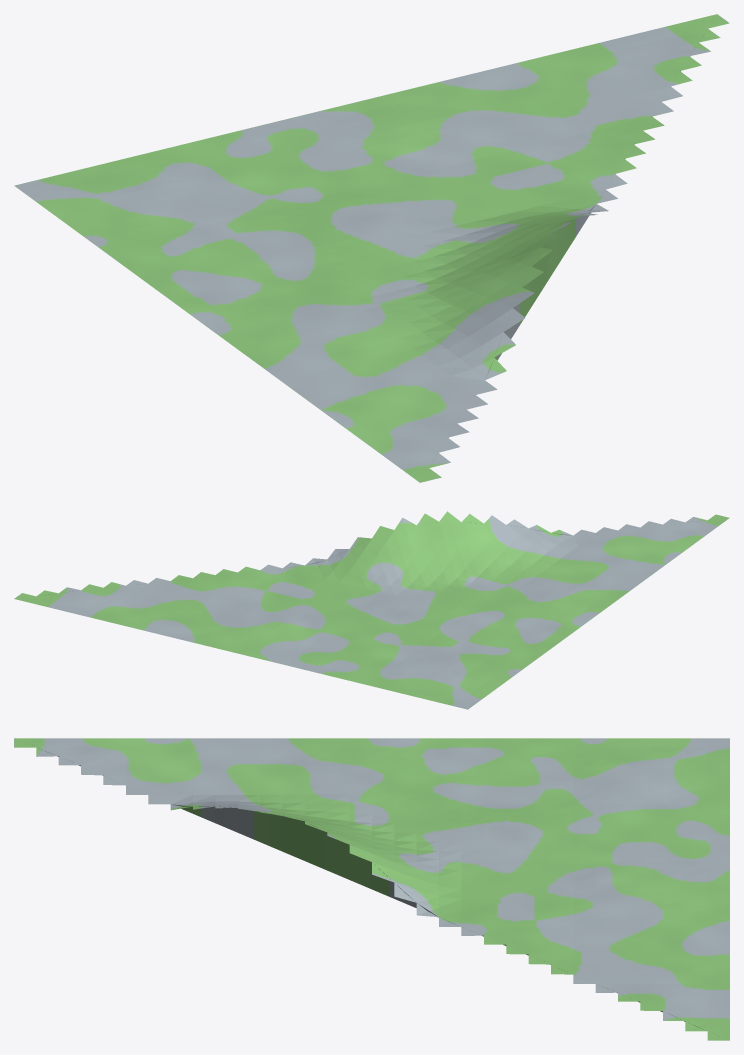
The model's file is Grass_RockyGround_08_SW.obj.
3 views of the same model, one above another, from view 1: azimuth 30°, elevation 25°; view 2: azimuth 150°, elevation 25°; view 3: azimuth 270°, elevation 25° (orthographic). The views are drawn at different scales.
Size of the model in its own units: 10 by 0.7168 by 10.
1 material, 1 textured.
